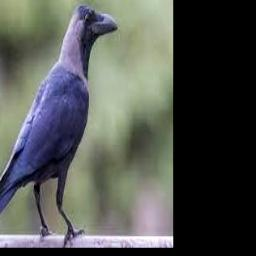Crow: (0, 4, 117, 244)
